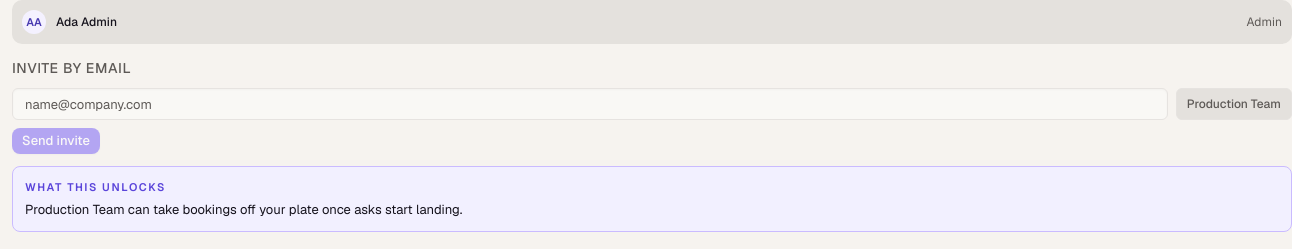
Test: TeamPanelBody › invites a producer without leaving the panel
Expected: the text "Ada Admin" is shown, 56,14 -> 117,30
Type "lena@nordstadt.de" into the field labelled "Invite by email" at x=590, y=104, box 12,88 -> 1168,120
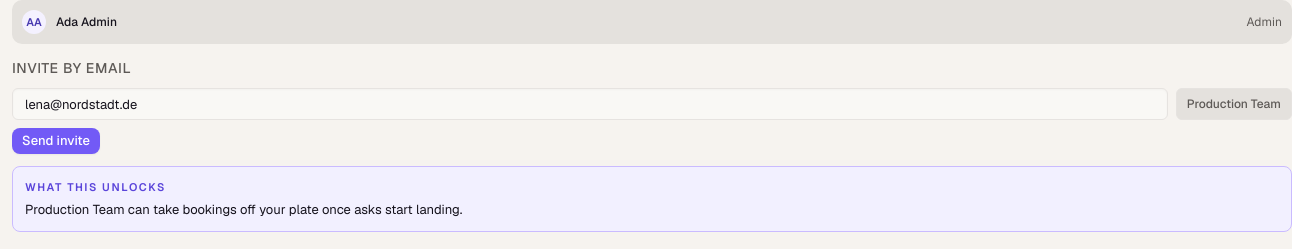
Click the button "Send invite" at x=56, y=141, box 12,128 -> 100,154
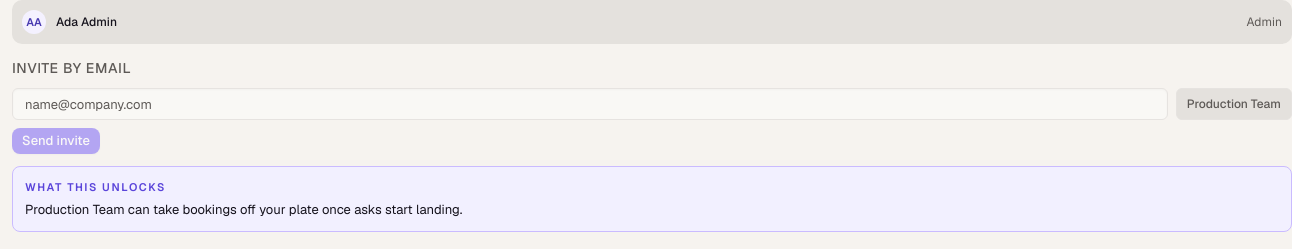
Expected: the field labelled "Invite by email" is empty, 12,88 -> 1168,120
